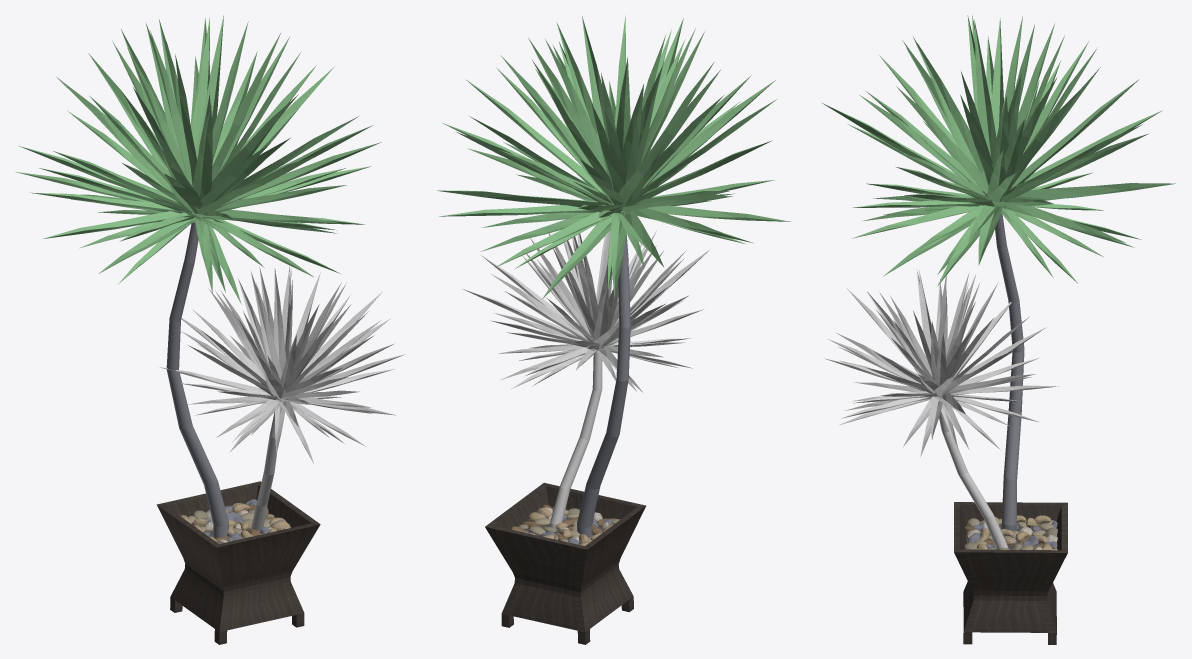
Rendered from plant.obj.
3 views of the same model, side by side, from view 1: azimuth 30°, elevation 25°; view 2: azimuth 150°, elevation 25°; view 3: azimuth 270°, elevation 25° (orthographic). The views are drawn at different scales.
Parts seen in each view (by area): view 1: Spike_plant_1_Plane.1071, Spike_plant_2_Plane.1169, Pot_1_Plane.1171, Spike_trunk_2_Cylinder, Rock_0_Sphere.000, Spike_trunk_1_Cylinder.001; view 2: Spike_plant_1_Plane.1071, Pot_1_Plane.1171, Spike_plant_2_Plane.1169, Spike_trunk_2_Cylinder, Rock_0_Sphere.000, Spike_trunk_1_Cylinder.001; view 3: Spike_plant_1_Plane.1071, Spike_plant_2_Plane.1169, Pot_1_Plane.1171, Spike_trunk_2_Cylinder, Rock_0_Sphere.000, Spike_trunk_1_Cylinder.001.
Part boxes in pixels (x1=…): Spike_plant_1_Plane.1071: x1=16, y1=15, x2=381, y2=304; Spike_plant_2_Plane.1169: x1=160, y1=266, x2=404, y2=463; Pot_1_Plane.1171: x1=156, y1=481, x2=320, y2=644; Spike_trunk_2_Cylinder: x1=166, y1=222, x2=228, y2=538; Rock_0_Sphere.000: x1=180, y1=499, x2=290, y2=543; Spike_trunk_1_Cylinder.001: x1=251, y1=401, x2=281, y2=533; Spike_plant_1_Plane.1071: x1=437, y1=15, x2=790, y2=299; Pot_1_Plane.1171: x1=485, y1=482, x2=645, y2=644; Spike_plant_2_Plane.1169: x1=463, y1=230, x2=710, y2=392; Spike_trunk_2_Cylinder: x1=577, y1=212, x2=630, y2=537; Rock_0_Sphere.000: x1=512, y1=504, x2=620, y2=545; Spike_trunk_1_Cylinder.001: x1=549, y1=352, x2=602, y2=529; Spike_plant_1_Plane.1071: x1=822, y1=15, x2=1175, y2=286; Spike_plant_2_Plane.1169: x1=824, y1=269, x2=1058, y2=457; Pot_1_Plane.1171: x1=954, y1=502, x2=1067, y2=644; Spike_trunk_2_Cylinder: x1=995, y1=213, x2=1024, y2=537; Rock_0_Sphere.000: x1=964, y1=515, x2=1057, y2=550; Spike_trunk_1_Cylinder.001: x1=938, y1=397, x2=1008, y2=549.
Bounding box in the file's own units: 108 × 181 × 103.
